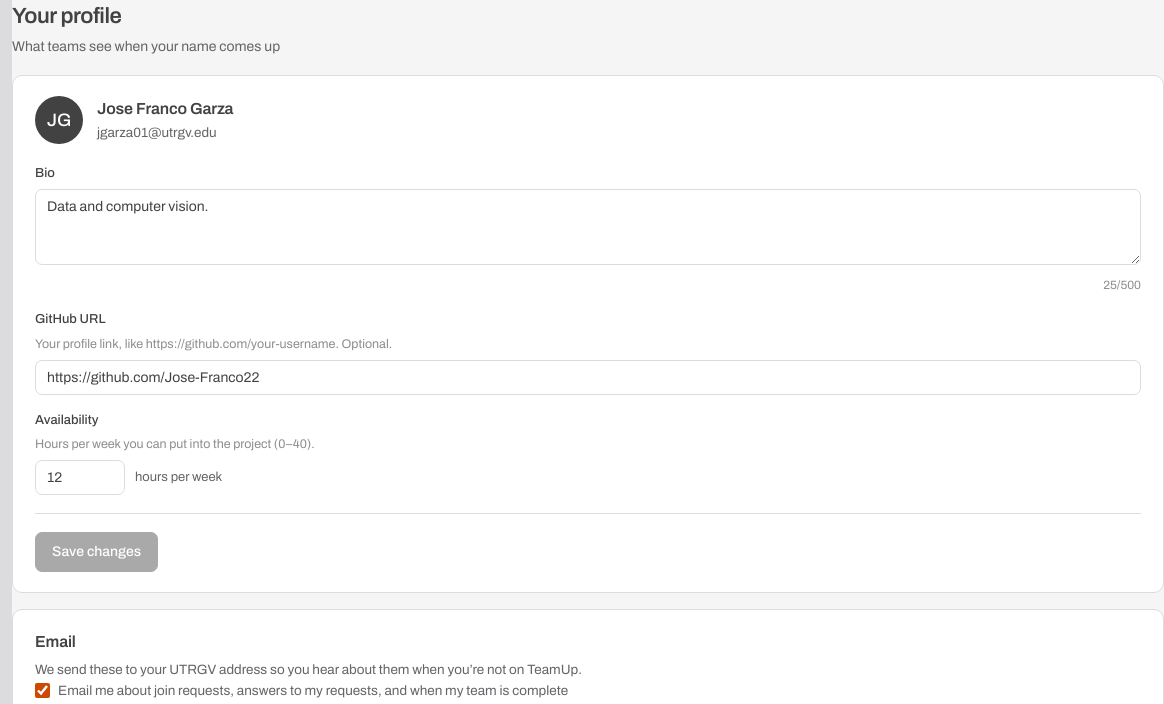
Test: availability › typing 500 shows an inline error and disables Save
expect the heading "Your profile" is shown: met, box [12, 4, 121, 28]
Replace the text in the number field labelled "Availability" with "500": [80, 478] box [35, 460, 125, 495]
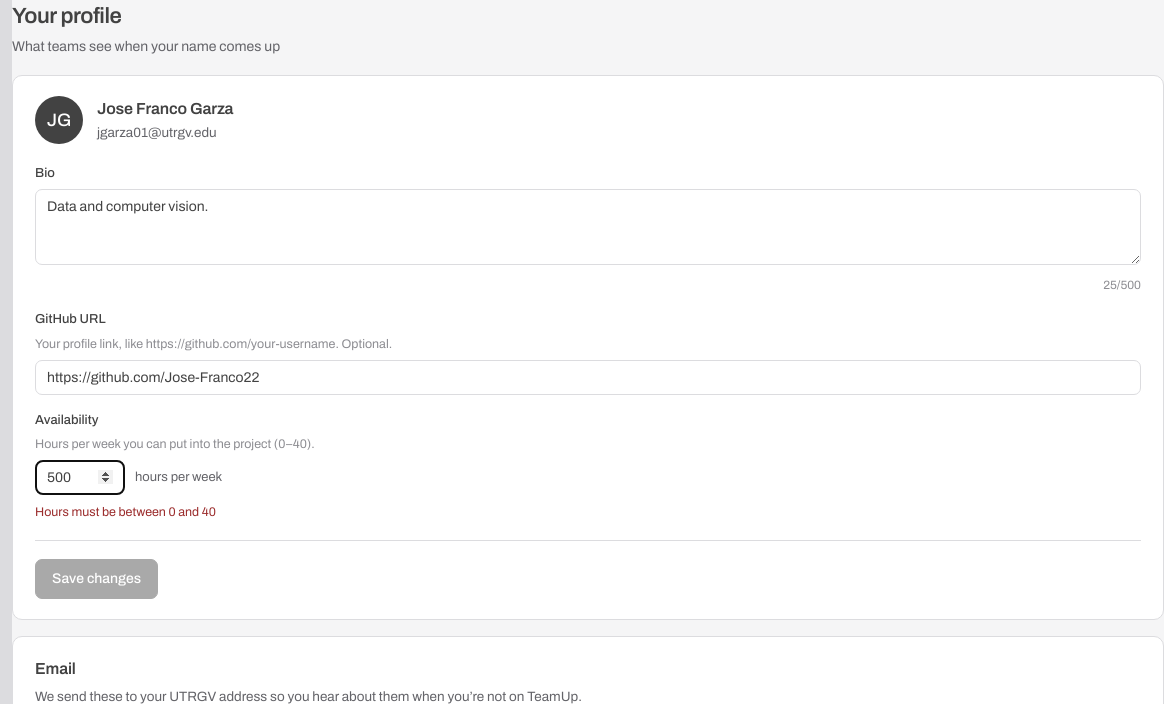
expect the button "Save changes" is disabled: met, box [35, 559, 158, 599]
expect the text "Hours must be between 0 and 40" is shown: met, box [35, 505, 216, 519]
